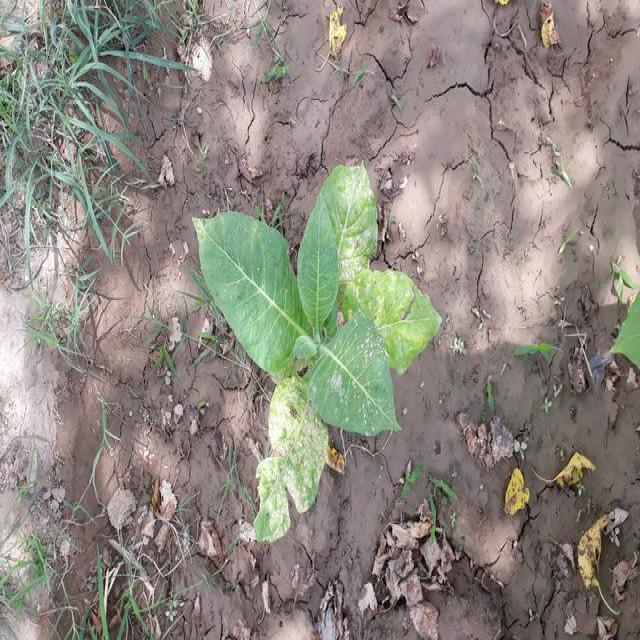crop: (190, 159, 442, 549)
